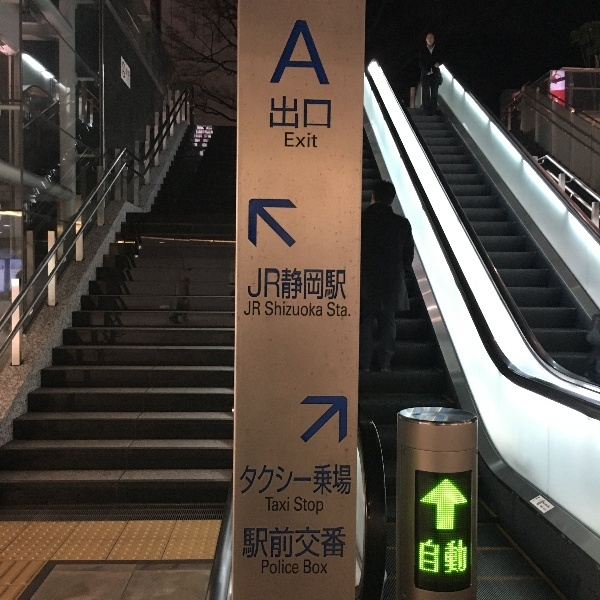text: (305, 22, 320, 86), (321, 22, 330, 86), (433, 537, 448, 575), (449, 537, 464, 575), (273, 95, 288, 130), (289, 95, 304, 130), (305, 95, 320, 130), (289, 268, 304, 301), (305, 268, 320, 301), (321, 268, 336, 301), (257, 526, 272, 559), (273, 526, 288, 559), (289, 526, 304, 559), (305, 526, 320, 559), (321, 526, 336, 559), (241, 465, 256, 497), (257, 465, 272, 497), (273, 465, 288, 497), (289, 465, 304, 497), (305, 465, 320, 497), (321, 465, 336, 497), (337, 465, 352, 497), (420, 537, 432, 575), (257, 268, 272, 298), (297, 22, 304, 86), (243, 526, 256, 559), (321, 95, 332, 130), (337, 268, 346, 301), (337, 526, 346, 559), (305, 497, 320, 515), (289, 133, 304, 149), (273, 497, 289, 512), (273, 301, 288, 316), (289, 301, 304, 316), (305, 301, 320, 316), (305, 560, 320, 575), (337, 302, 351, 317), (273, 560, 288, 574), (249, 268, 256, 298), (273, 268, 280, 298), (282, 268, 288, 301), (305, 133, 317, 149), (245, 301, 256, 316), (295, 497, 304, 515), (262, 560, 272, 574), (289, 560, 299, 574), (327, 302, 336, 317), (465, 537, 468, 575), (265, 301, 272, 316), (265, 497, 272, 512), (321, 560, 328, 575), (270, 95, 272, 130), (257, 301, 261, 316), (321, 497, 324, 515), (285, 133, 288, 149), (126, 68, 128, 80), (321, 301, 322, 316), (129, 68, 130, 80)
